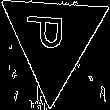P_E: (30, 19, 77, 59)
